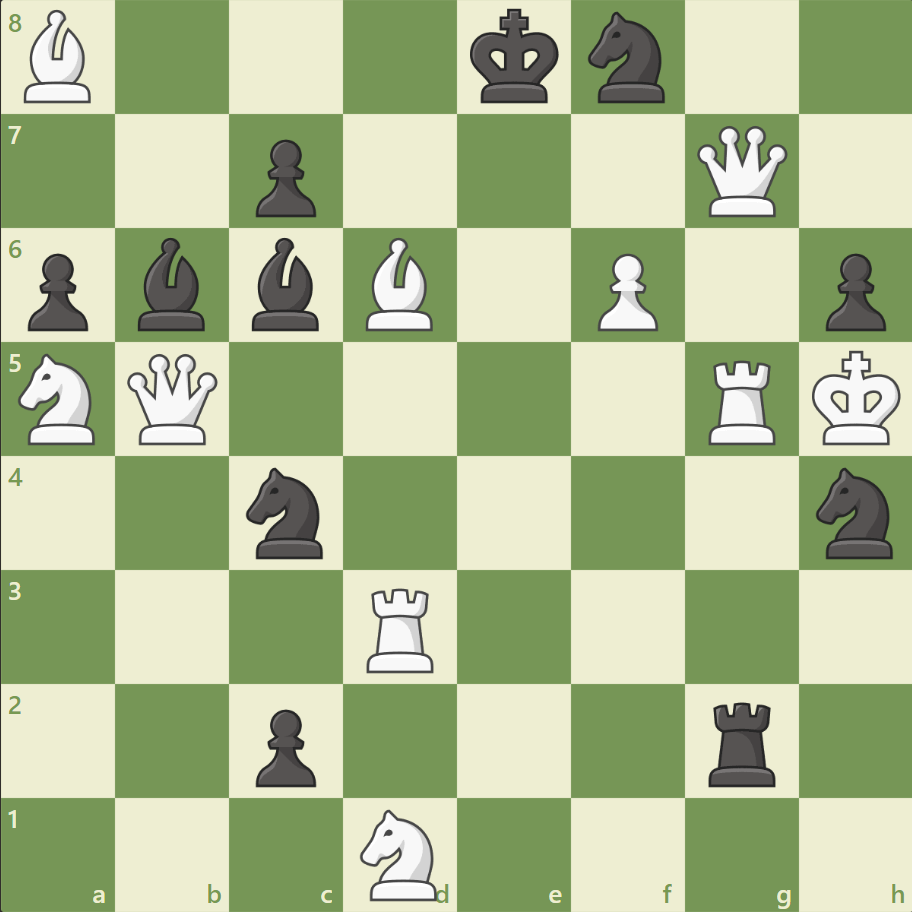B: (17, 6, 101, 109), (358, 233, 442, 336)
K: (806, 344, 906, 452)
N: (351, 802, 449, 904), (11, 348, 108, 450)
P: (588, 246, 662, 337)
Q: (691, 122, 790, 222), (124, 349, 223, 449)
R: (700, 352, 783, 449), (360, 579, 442, 676)
b: (131, 233, 215, 336), (244, 233, 328, 336)
k: (465, 4, 565, 112)
n: (579, 7, 676, 110), (238, 461, 335, 564), (806, 461, 903, 564)
p: (247, 132, 322, 223), (20, 246, 95, 337), (247, 700, 322, 791), (815, 246, 889, 337)
r: (700, 693, 783, 790)
